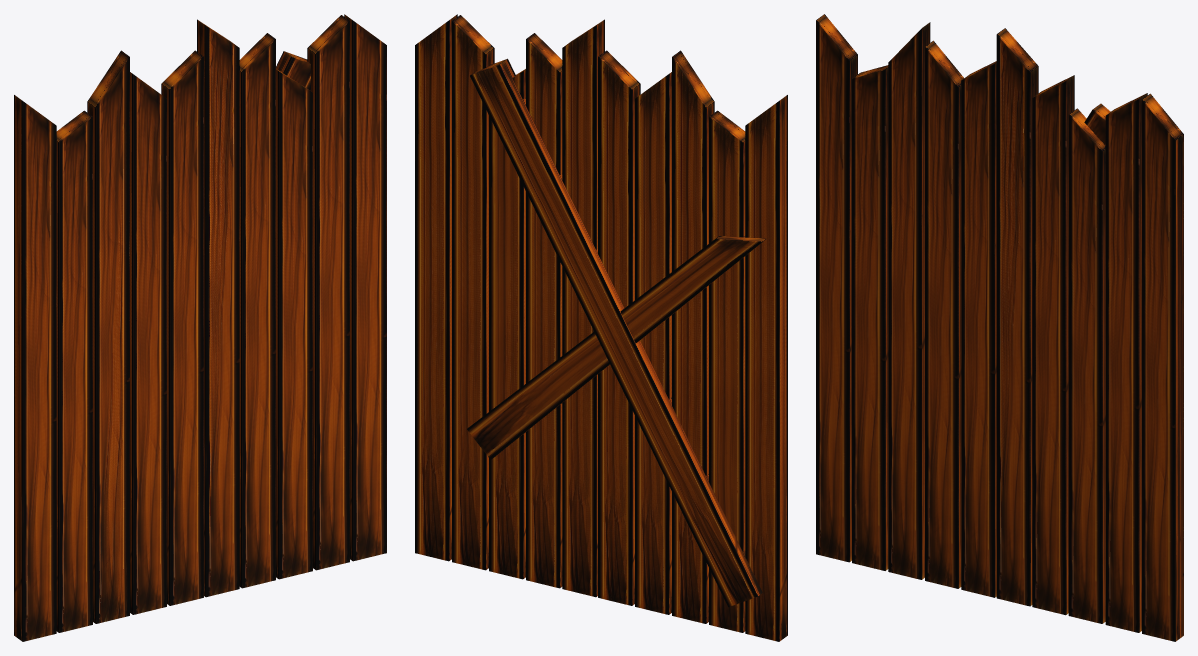
Rendered from wall.fbx.
The picture shows the model from 3 angles, left to right: view 1: azimuth 30°, elevation 25°; view 2: azimuth 150°, elevation 25°; view 3: azimuth 330°, elevation 25°; orthographic projection.
Visible parts, largest first — view 1: wall_3; view 2: wall_3; view 3: wall_3.
Boxes of the visible parts, box(x1,y1,x2,y2) form: wall_3: box(14, 14, 386, 641); wall_3: box(415, 14, 787, 641); wall_3: box(816, 14, 1183, 641).
Bounding box in the file's own units: 410 × 615 × 27.17.
